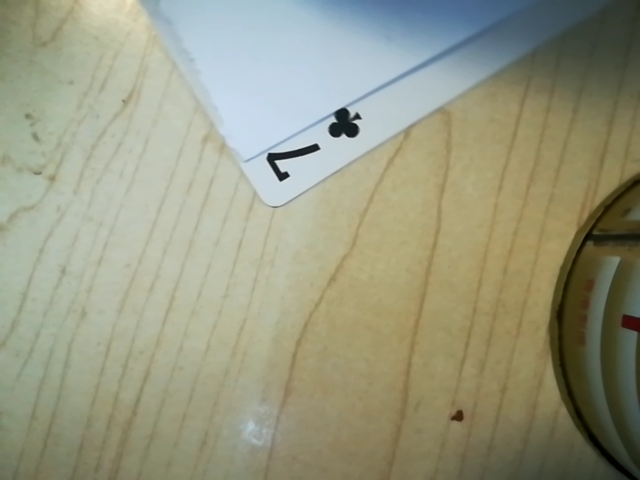mh 7: (253, 100, 385, 185)
